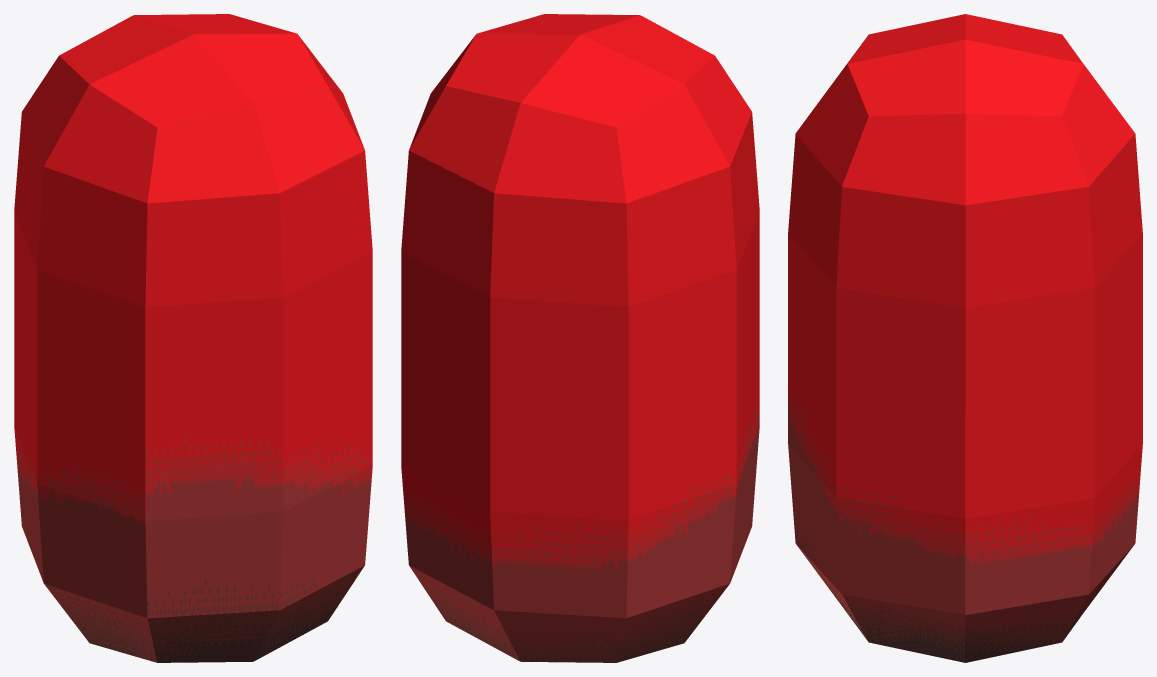
File: EnemyBEANS&GUNS.fbx
The picture shows the model from 3 angles, left to right: view 1: azimuth 30°, elevation 25°; view 2: azimuth 150°, elevation 25°; view 3: azimuth 270°, elevation 25°; orthographic projection.
Visible parts, largest first — view 1: Cube; view 2: Cube; view 3: Cube.
Boxes of the visible parts, box(x1,y1,x2,y2) form: Cube: box(14, 14, 372, 662); Cube: box(401, 14, 759, 662); Cube: box(788, 14, 1142, 662).
Bounding box in the file's own units: 91.67 × 170 × 91.67.
